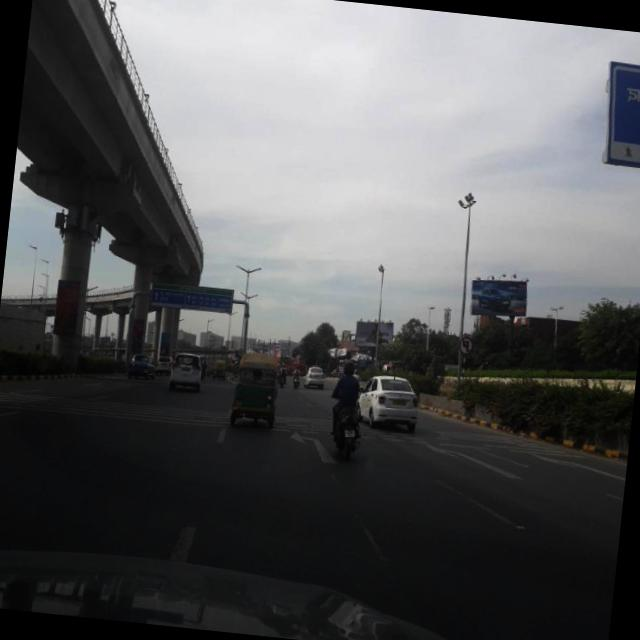pothole: (345, 514, 406, 588)
